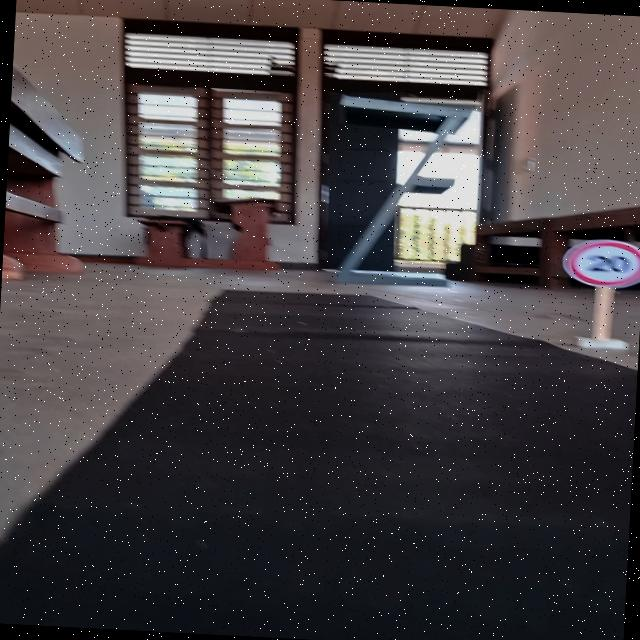Speed20: (558, 233, 640, 290)
